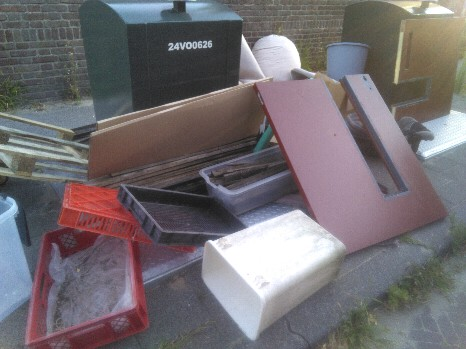Container: (86, 2, 234, 95), (351, 9, 421, 108)
Plastic: (30, 238, 142, 346), (72, 180, 265, 237), (79, 205, 214, 258)
Rest: (255, 84, 430, 246), (81, 96, 297, 170), (223, 194, 329, 331), (206, 146, 316, 203), (0, 117, 89, 185), (251, 27, 308, 86), (320, 35, 362, 89)
